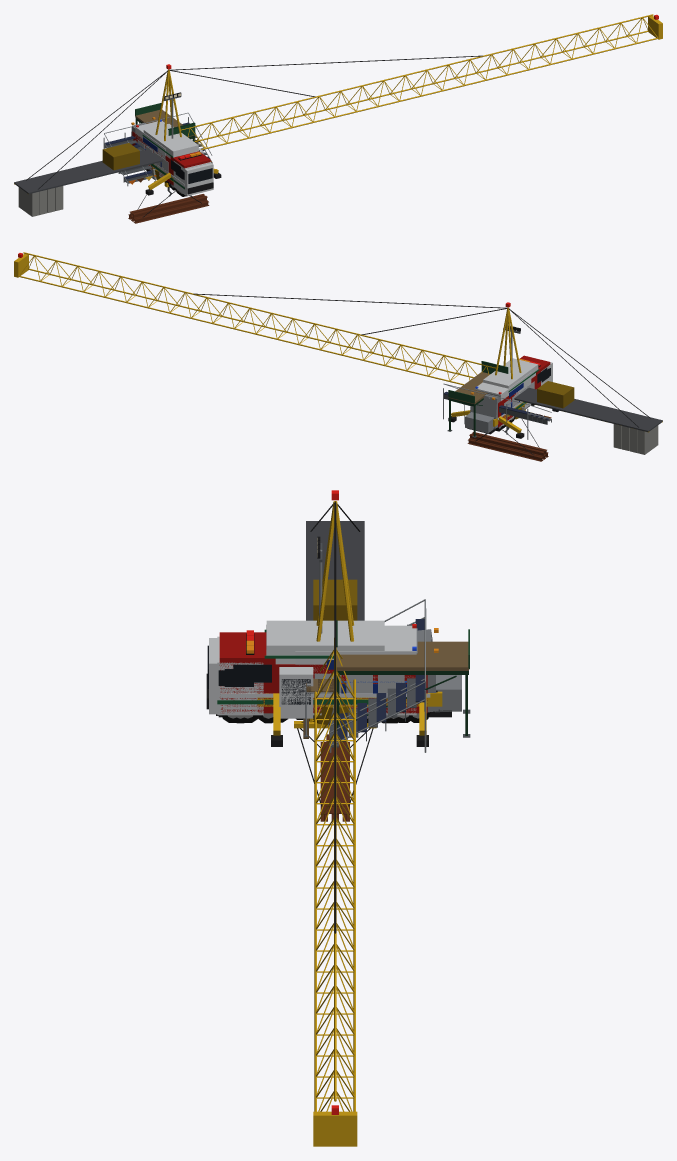
The model's file is closures.glb.
The picture shows the model from 3 angles, top to bottom: view 1: azimuth 30°, elevation 25°; view 2: azimuth 150°, elevation 25°; view 3: azimuth 270°, elevation 25°; orthographic projection. The views are drawn at different scales.
Parts seen in each view (by area): view 1: crane_top, dsny_truck, concrete_pump, crane_load, fdny_engine, grandstand, shed_bay, nypd_truck; view 2: crane_top, dsny_truck, shed_bay, crane_load, concrete_pump, grandstand, fdny_engine, nypd_truck; view 3: crane_top, dsny_truck, fdny_engine, concrete_pump, shed_bay, grandstand, crane_load, nypd_truck.
Part boxes in pixels (box(x1,y1,x2,y2)): crane_top: box(14, 14, 662, 216); dsny_truck: box(131, 117, 211, 195); concrete_pump: box(145, 163, 221, 196); crane_load: box(128, 180, 209, 223); fdny_engine: box(132, 131, 210, 193); grandstand: box(103, 112, 212, 186); shed_bay: box(135, 103, 195, 141); nypd_truck: box(135, 119, 175, 190); crane_top: box(14, 252, 662, 454); dsny_truck: box(470, 358, 550, 429); shed_bay: box(447, 361, 508, 437); crane_load: box(467, 419, 548, 461); concrete_pump: box(448, 362, 559, 438); grandstand: box(443, 383, 551, 439); fdny_engine: box(488, 355, 550, 431); nypd_truck: box(474, 372, 531, 426); crane_top: box(279, 490, 364, 1146); dsny_truck: box(217, 620, 439, 723); fdny_engine: box(216, 630, 434, 722); concrete_pump: box(206, 638, 461, 746); shed_bay: box(336, 620, 470, 737); grandstand: box(329, 599, 426, 752); crane_load: box(294, 720, 376, 821); nypd_truck: box(258, 624, 417, 723).
Bounding box in the file's own units: 60.45 × 13.32 × 10.84.
